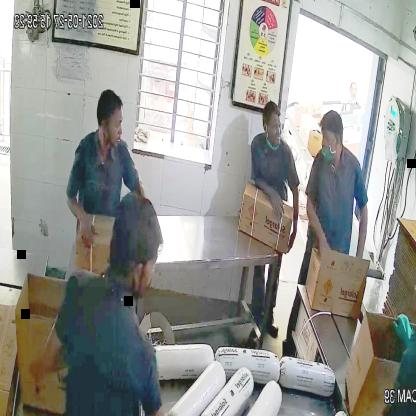no_goggles: (318, 127, 344, 146), (100, 116, 124, 132)
